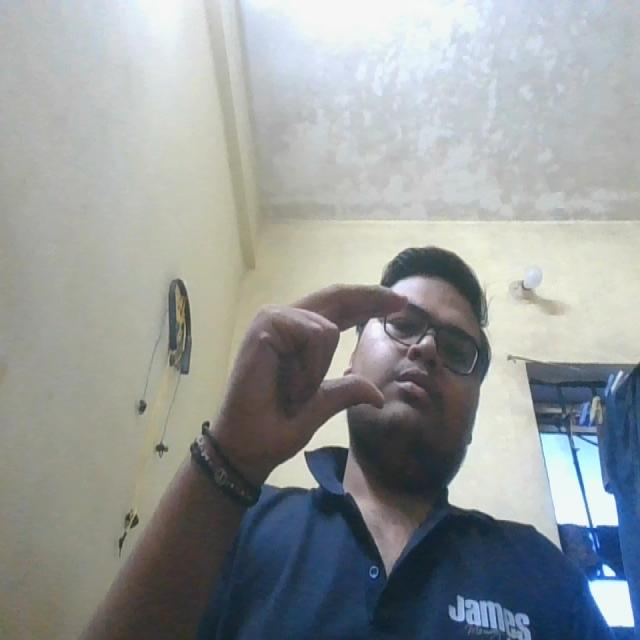No: (206, 252, 420, 488)
